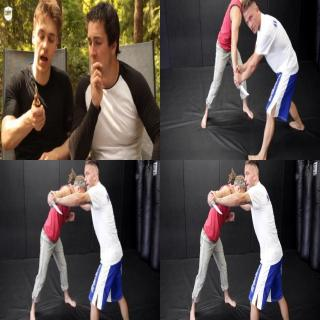knife: (27, 79, 47, 123), (45, 194, 63, 216), (205, 194, 223, 216), (234, 80, 250, 97)
